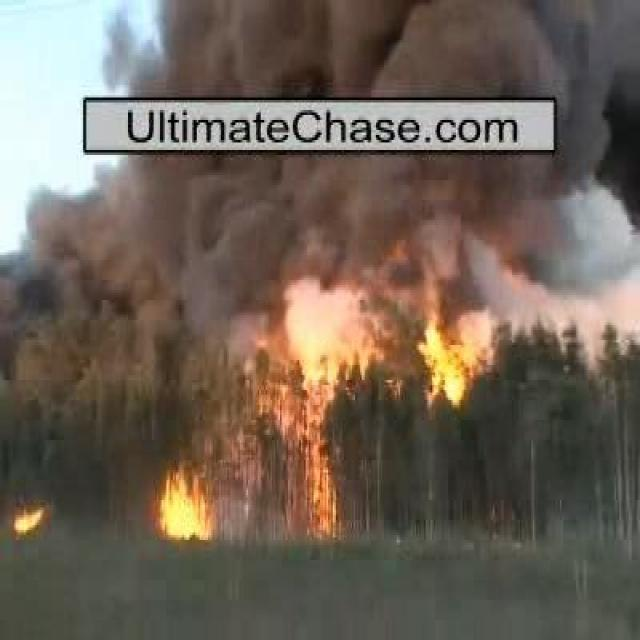fire: (147, 469, 221, 541)
smoke: (60, 159, 585, 285), (177, 5, 558, 95)
